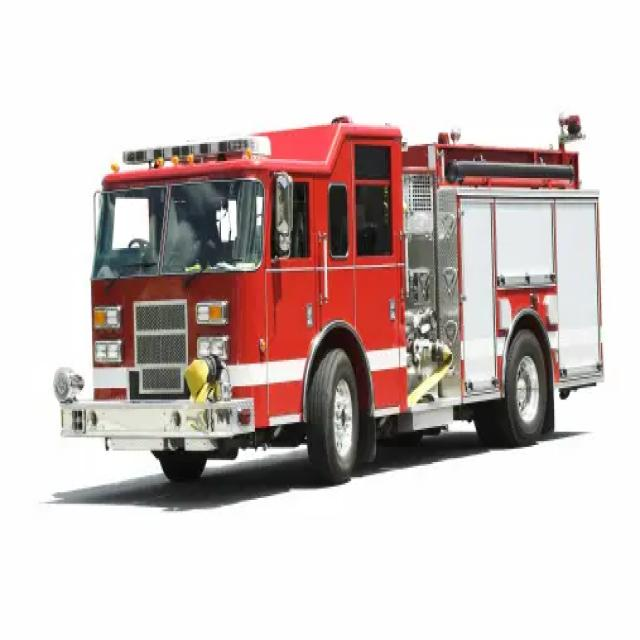emergency: (55, 116, 604, 481)
